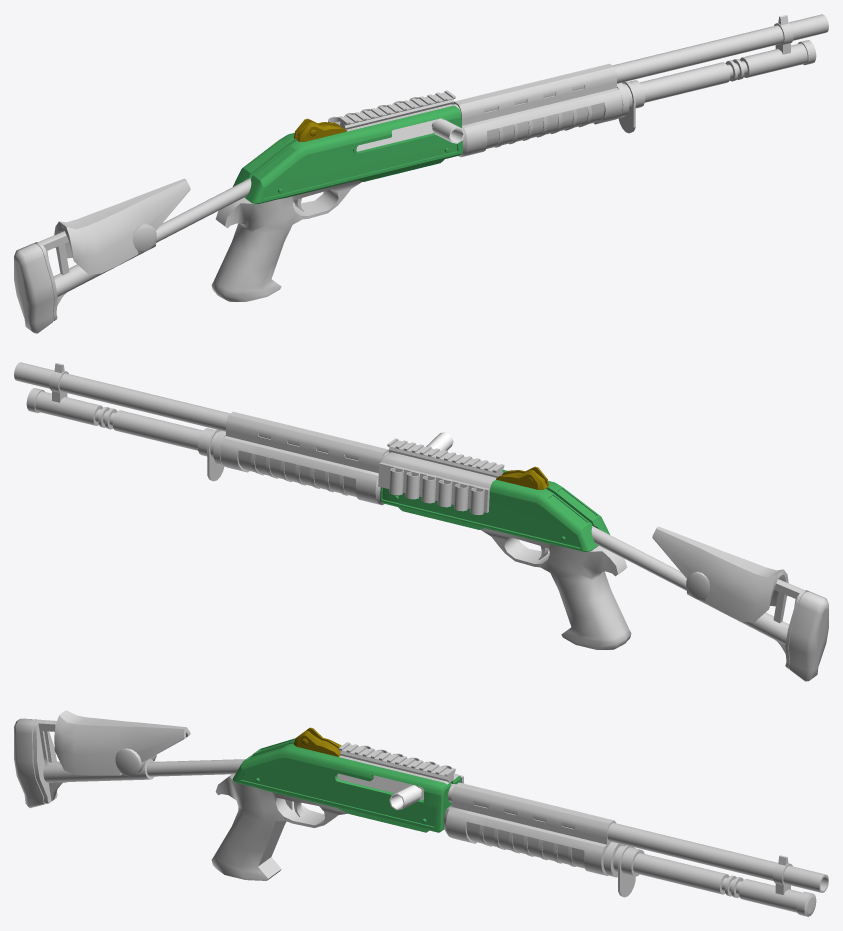
The model's file is AutoShotty.fbx.
The picture shows the model from 3 angles, top to bottom: view 1: azimuth 30°, elevation 25°; view 2: azimuth 150°, elevation 25°; view 3: azimuth 330°, elevation 25°; orthographic projection.
Parts seen in each view (by area): view 1: Base, Pump Handle, Handle, Stock, Cylinder.001, Pump Rail, Cylinder.003, Cube.002, Cocking Mech, Sights; view 2: Pump Handle, Base, Handle, Cube.002, Stock, Cylinder.001, Pump Rail, Cylinder.003, Sights; view 3: Base, Pump Handle, Handle, Stock, Cylinder.001, Pump Rail, Cylinder.003, Cube.002, Cocking Mech, Sights, Cylinder.002, Pump Rail.001 (+1 smaller).
Part boxes in pixels (box(x1,y1,x2,y2)): Base: box(233, 106, 462, 203); Pump Handle: box(454, 63, 622, 157); Handle: box(211, 180, 362, 301); Stock: box(14, 177, 251, 333); Cylinder.001: box(54, 178, 190, 274); Pump Rail: box(617, 40, 816, 117); Cylinder.003: box(453, 14, 828, 114); Cube.002: box(328, 90, 455, 131); Cocking Mech: box(356, 118, 464, 151); Sights: box(294, 118, 346, 141); Pump Handle: box(220, 411, 388, 505); Base: box(380, 469, 609, 551); Handle: box(480, 528, 631, 649); Cube.002: box(378, 438, 504, 514); Stock: box(591, 525, 828, 681); Cylinder.001: box(652, 526, 788, 622); Pump Rail: box(26, 388, 225, 465); Cylinder.003: box(14, 362, 388, 460); Sights: box(496, 466, 548, 489); Base: box(232, 738, 461, 832); Pump Handle: box(443, 782, 615, 875); Handle: box(211, 773, 347, 880); Stock: box(14, 718, 245, 808); Cylinder.001: box(54, 710, 190, 775); Pump Rail: box(603, 842, 816, 916); Cylinder.003: box(448, 783, 828, 892); Cube.002: box(338, 742, 463, 784); Cocking Mech: box(337, 773, 424, 810); Sights: box(294, 727, 341, 756); Cylinder.002: box(115, 748, 156, 776); Pump Rail.001: box(617, 845, 635, 897).
Bounding box in the file's own units: 1225 × 225 × 130.
